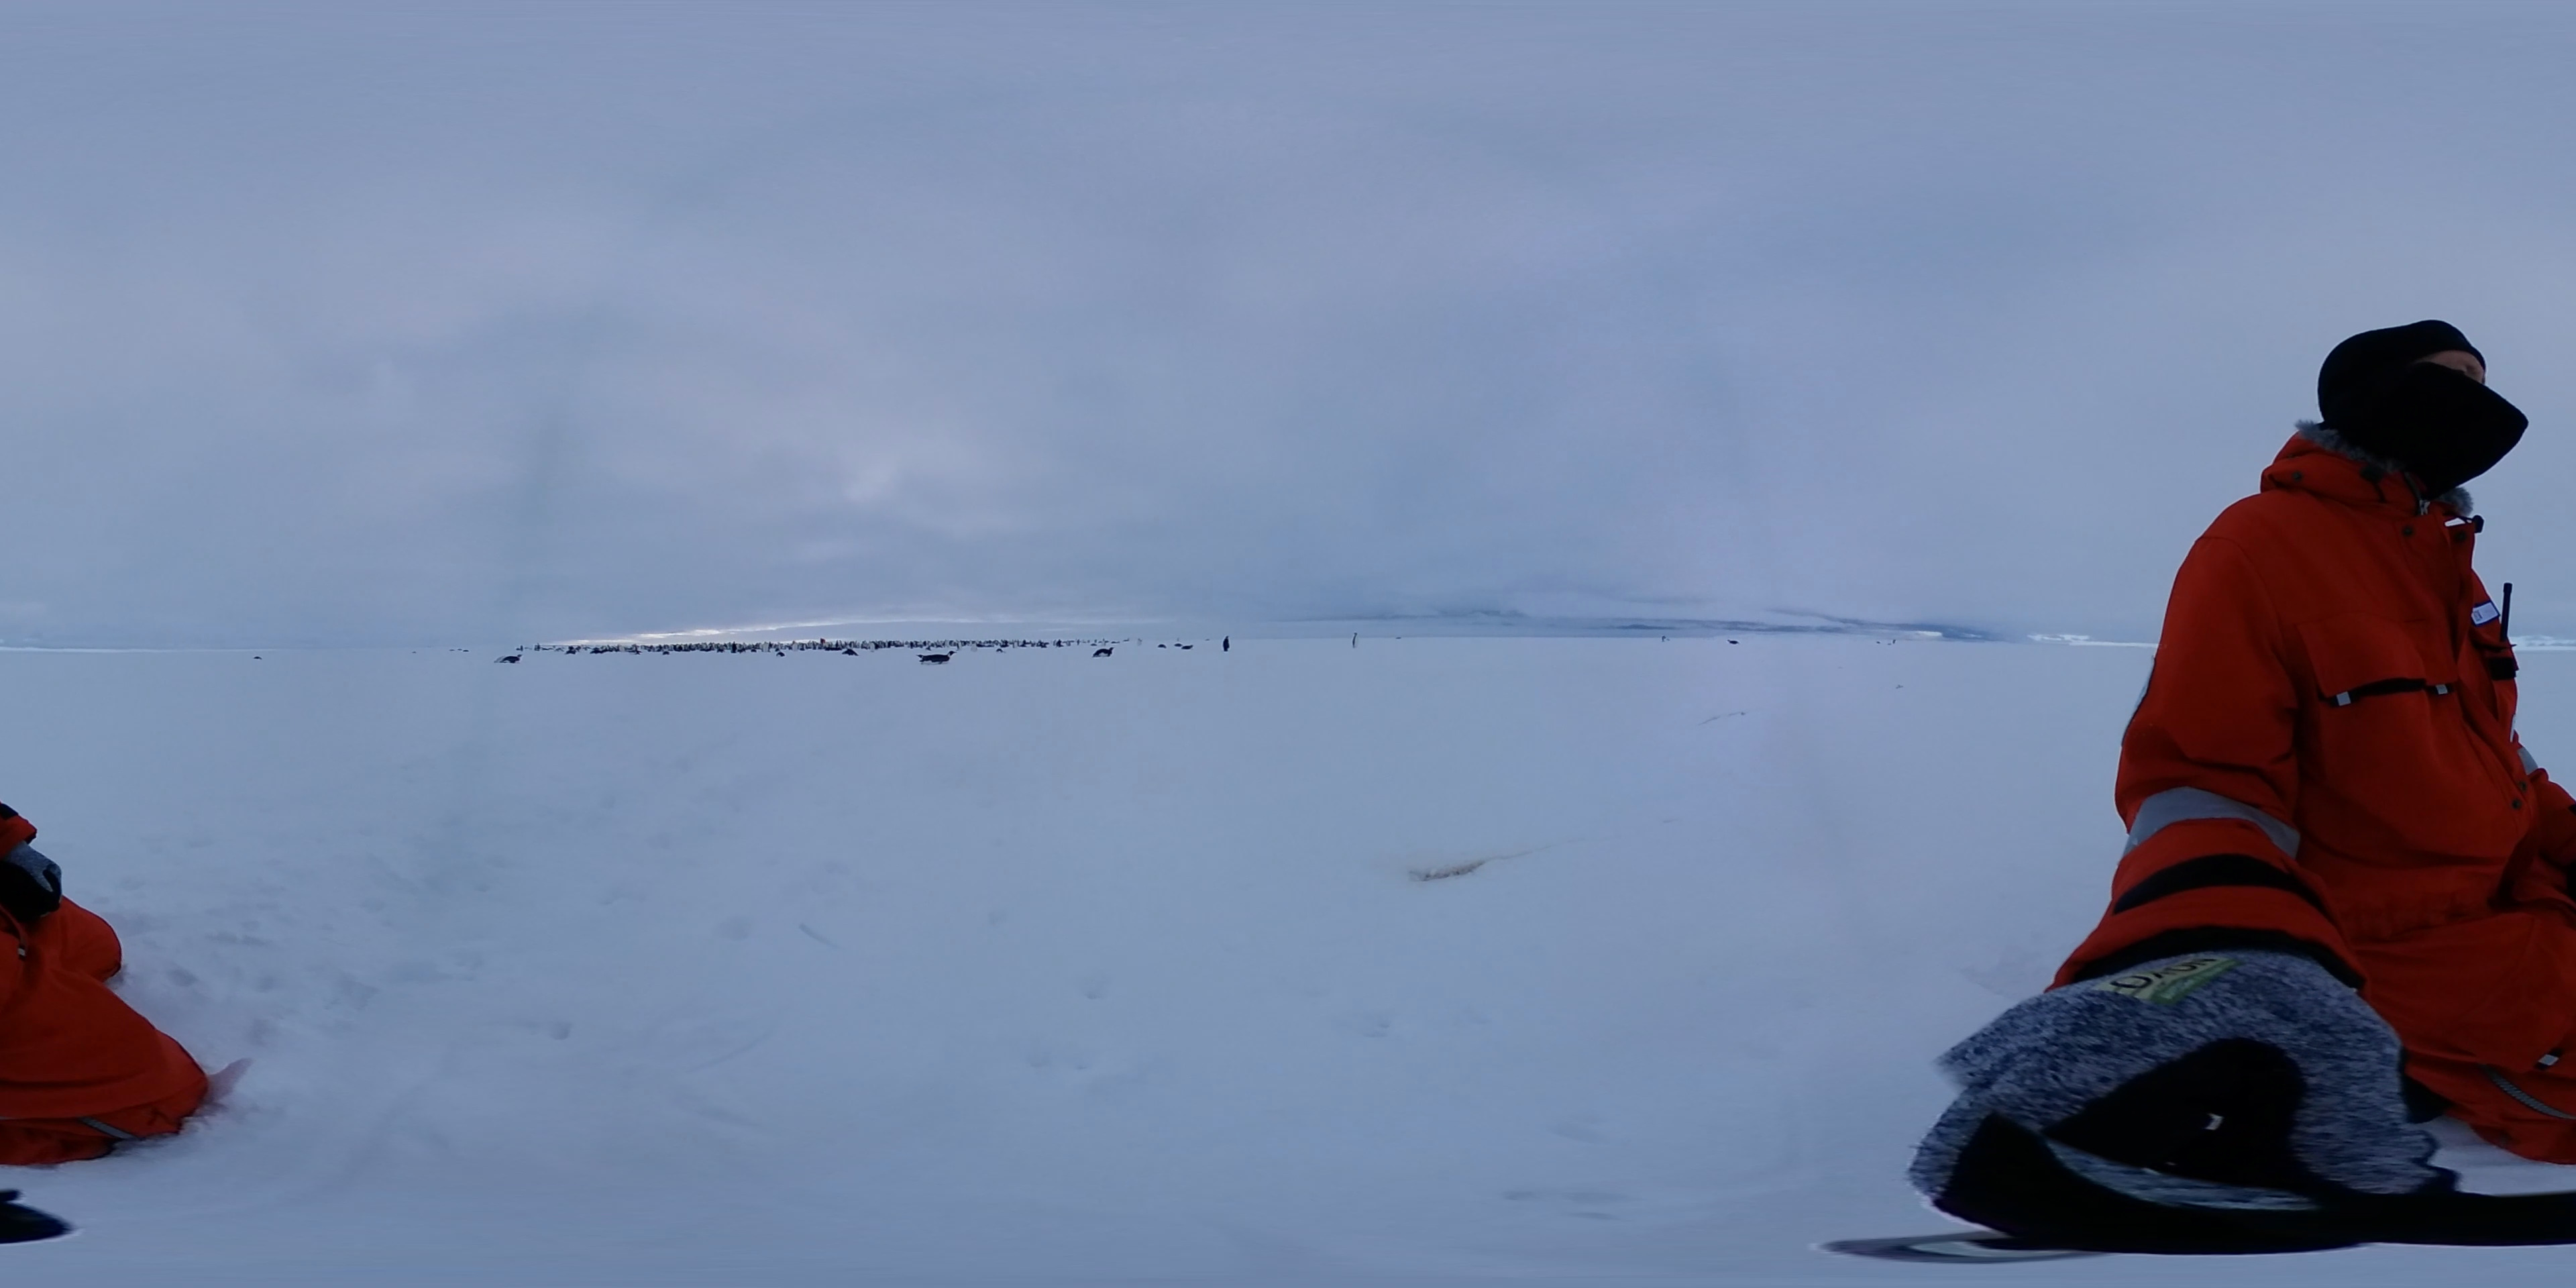adult_standing_penguin: (1347, 631, 1362, 646), (1219, 632, 1229, 654)
adult_toboggan_penguin: (918, 649, 956, 667), (1091, 647, 1115, 660), (496, 654, 522, 662)
researcher: (2068, 304, 2576, 1191)
